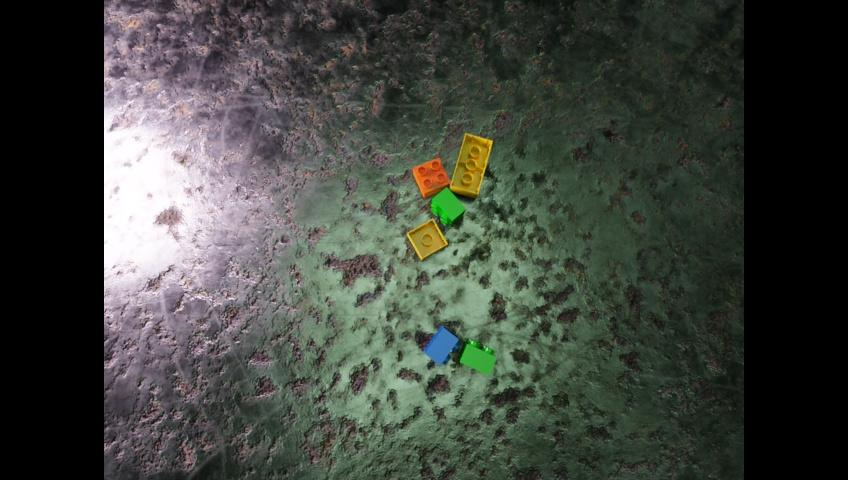2x2_blue: (424, 325, 459, 365)
2x2_green: (457, 338, 495, 375), (431, 187, 465, 225)
2x2_orange: (413, 157, 449, 199)
2x2_yellow: (407, 218, 446, 260)
4x2_yellow: (449, 133, 492, 198)
